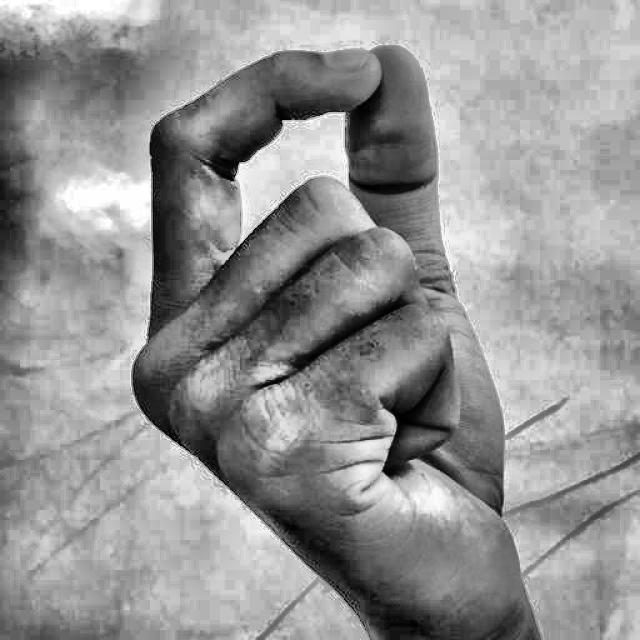Gha: (82, 31, 577, 640)
